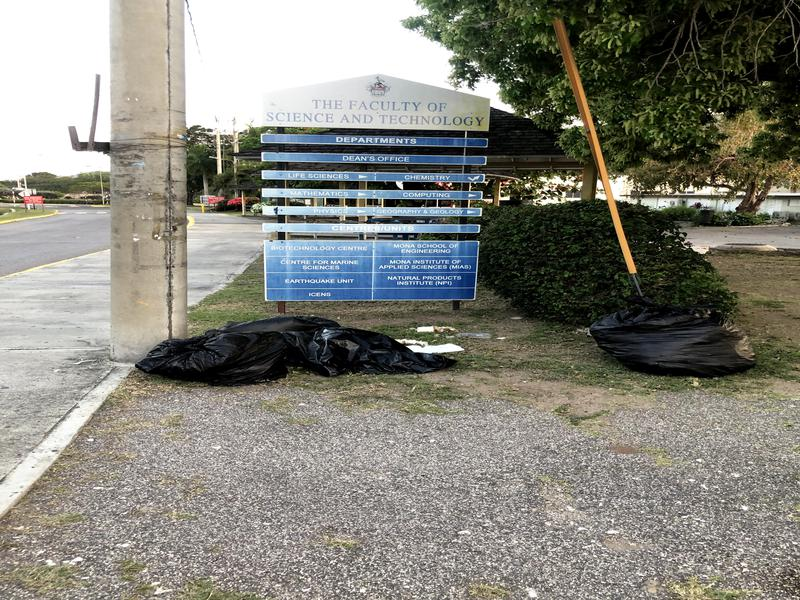18.0055634_-76.7484079_scitechsign: (239, 57, 499, 332)
